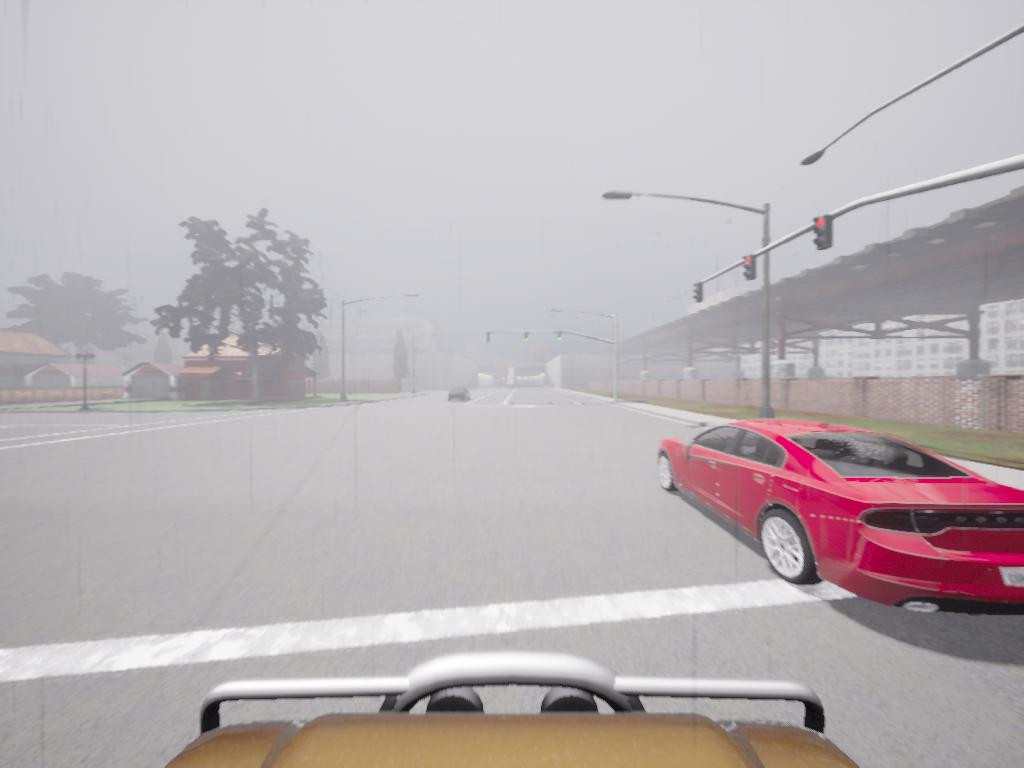traffic_light: (813, 218, 834, 252), (745, 259, 760, 285), (694, 284, 705, 303), (558, 332, 564, 343), (524, 333, 530, 344), (487, 333, 492, 344)
